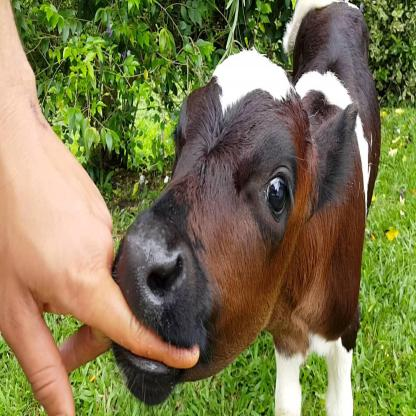cow: (115, 0, 380, 416)
